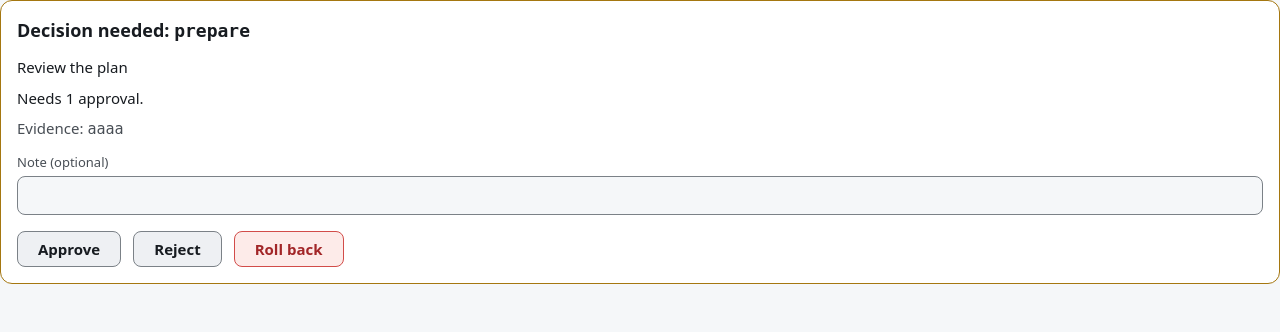
GateCard › sends one POST for a double click
Double-click the button "Approve" at [69, 249], box [17,231,121,267]
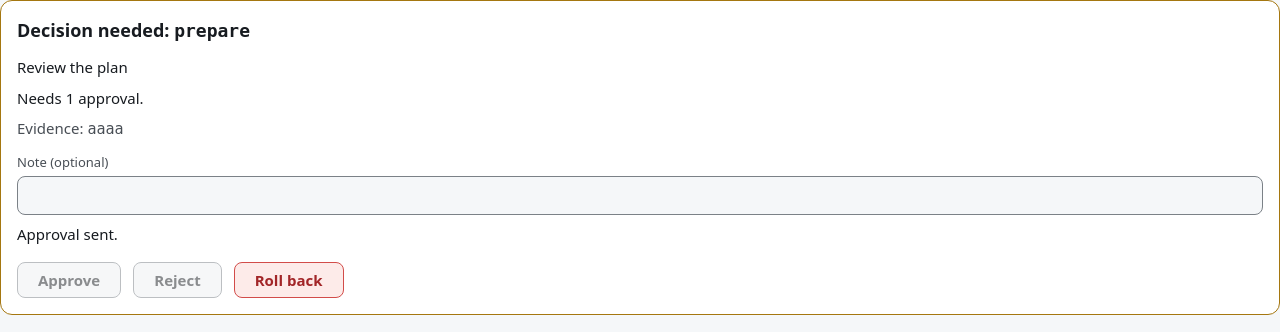
expect the text "Approval sent." is shown: met, box [17,224,118,244]
